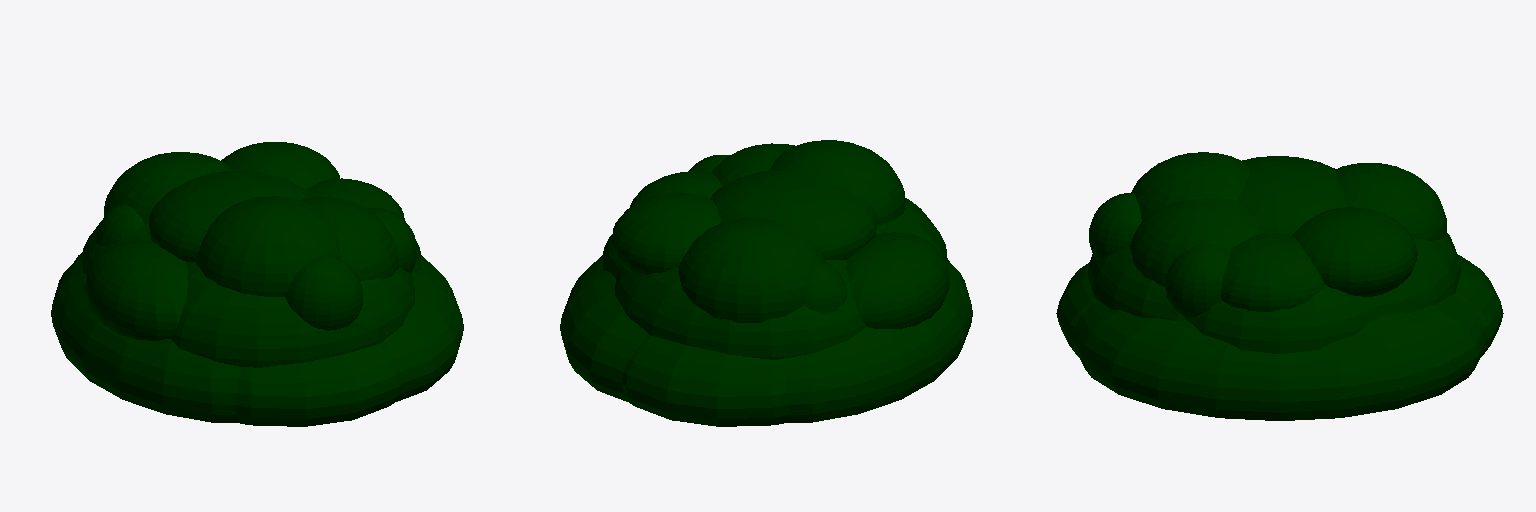
Rendered from Bush.obj.
3 views of the same model, side by side, from view 1: azimuth 30°, elevation 25°; view 2: azimuth 150°, elevation 25°; view 3: azimuth 270°, elevation 25° (orthographic).
Visible parts, largest first — view 1: pasted__pasted__pSphere1; view 2: pasted__pasted__pSphere1; view 3: pasted__pasted__pSphere1.
Part boxes in pixels (x1,y1,x2,y2): pasted__pasted__pSphere1: (51,142,463,426); pasted__pasted__pSphere1: (560,140,972,426); pasted__pasted__pSphere1: (1056,152,1503,420).
Bounding box in the file's own units: 17.17 × 7.98 × 19.24.